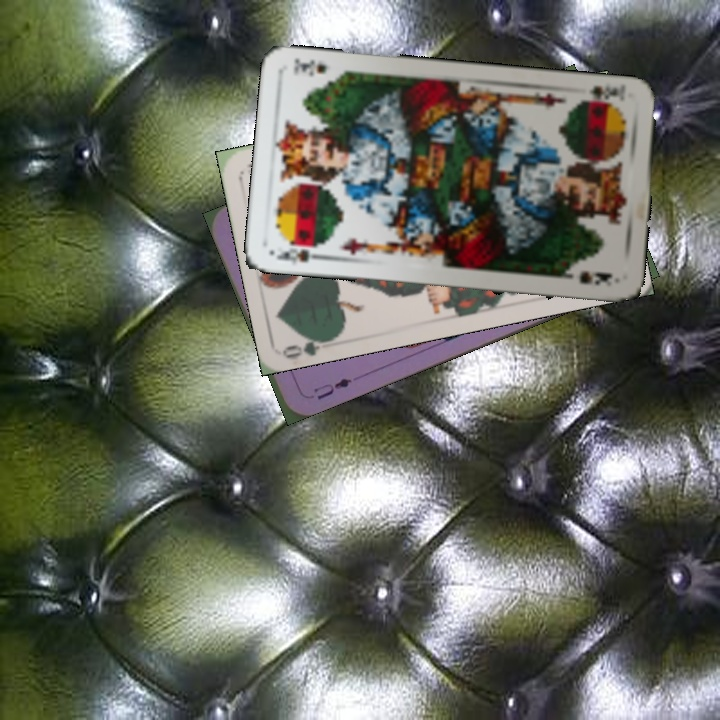EU: (309, 374, 354, 403)
GO: (282, 331, 340, 361)
SK: (273, 239, 328, 266), (574, 81, 622, 109)
